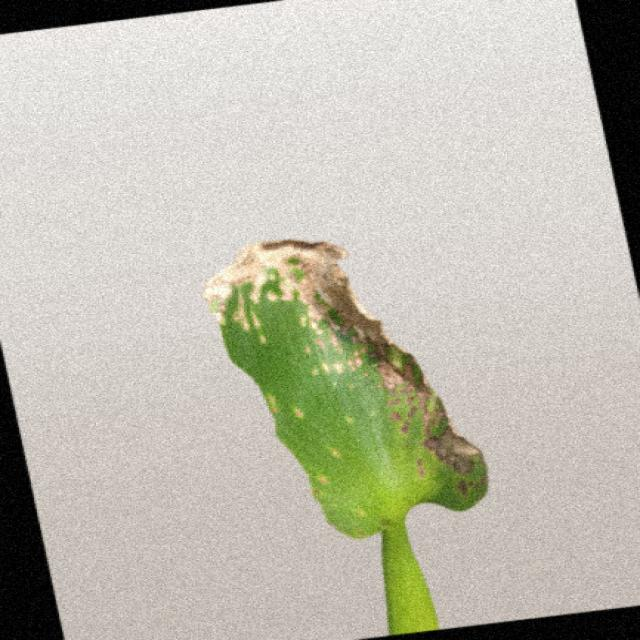daun berpenyakit bercak: (203, 242, 486, 633)
